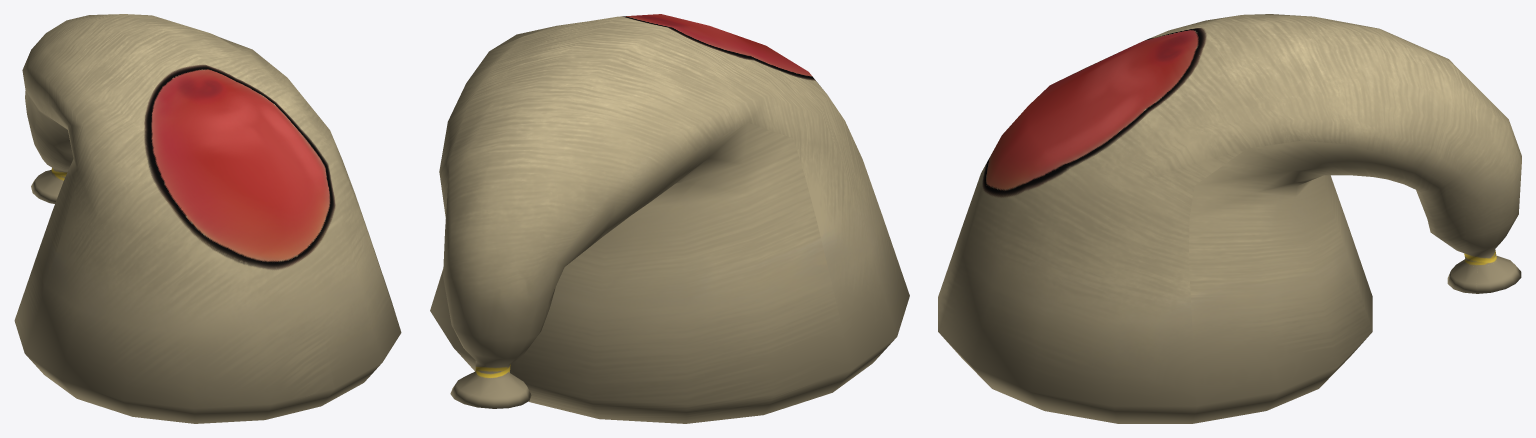
The model's file is Model_TexturaSacoMurchoCafe_v1.fbx.
The picture shows the model from 3 angles, left to right: view 1: azimuth 30°, elevation 25°; view 2: azimuth 150°, elevation 25°; view 3: azimuth 270°, elevation 25°; orthographic projection. The views are drawn at different scales.
Visible parts, largest first — view 1: Circle.003; view 2: Circle.003; view 3: Circle.003.
Part boxes in pixels (x1,y1,x2,y2): Circle.003: (14, 14, 401, 423); Circle.003: (430, 14, 909, 423); Circle.003: (938, 14, 1521, 423).
Bounding box in the file's own units: 227 × 179 × 305.
